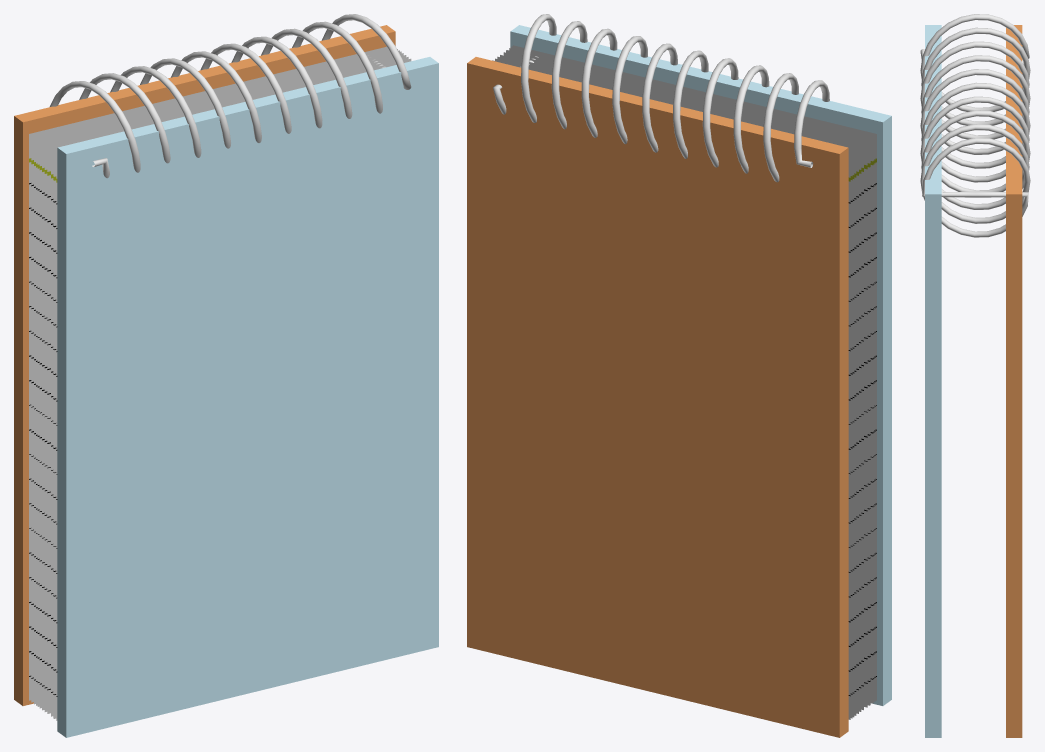
The picture shows the model from 3 angles, left to right: view 1: azimuth 30°, elevation 25°; view 2: azimuth 150°, elevation 25°; view 3: azimuth 270°, elevation 25°; orthographic projection. The views are drawn at different scales.
Visible parts, largest first — view 1: Cube, Spiral.001, Plane.008, Plane.007, Plane, Plane.005, Plane.006, Plane.001, Plane.004, Plane.002, Plane.003, Plane.009 (+2 smaller); view 2: Cube, Spiral.001, Plane.009, Plane.012, Plane.007, Plane.008, Plane.010, Plane.006, Plane.005, Plane.015, Plane.004, Plane.003 (+4 smaller); view 3: Cube, Spiral.001.
Boxes of the visible parts, bbox=[...] form: Cube: bbox=[14, 25, 438, 737]; Spiral.001: bbox=[49, 14, 411, 178]; Plane.008: bbox=[47, 58, 411, 713]; Plane.007: bbox=[44, 57, 408, 711]; Plane: bbox=[29, 46, 388, 700]; Plane.005: bbox=[39, 53, 403, 708]; Plane.006: bbox=[42, 55, 406, 710]; Plane.001: bbox=[31, 49, 389, 702]; Plane.004: bbox=[37, 51, 401, 706]; Plane.002: bbox=[34, 49, 397, 704]; Plane.003: bbox=[36, 50, 399, 705]; Plane.009: bbox=[51, 148, 57, 716]; Cube: bbox=[467, 25, 891, 737]; Spiral.001: bbox=[493, 14, 829, 182]; Plane.009: bbox=[503, 52, 867, 707]; Plane.012: bbox=[509, 48, 873, 703]; Plane.007: bbox=[497, 56, 861, 711]; Plane.008: bbox=[500, 55, 863, 710]; Plane.010: bbox=[506, 50, 869, 705]; Plane.006: bbox=[495, 58, 858, 713]; Plane.005: bbox=[492, 60, 856, 715]; Plane.015: bbox=[511, 46, 875, 701]; Plane.004: bbox=[848, 149, 854, 717]; Plane.003: bbox=[848, 151, 852, 718]; Cube: bbox=[925, 25, 1022, 737]; Spiral.001: bbox=[920, 14, 1030, 237].
Bounding box in the file's own units: 98.34 × 157 × 27.03.
